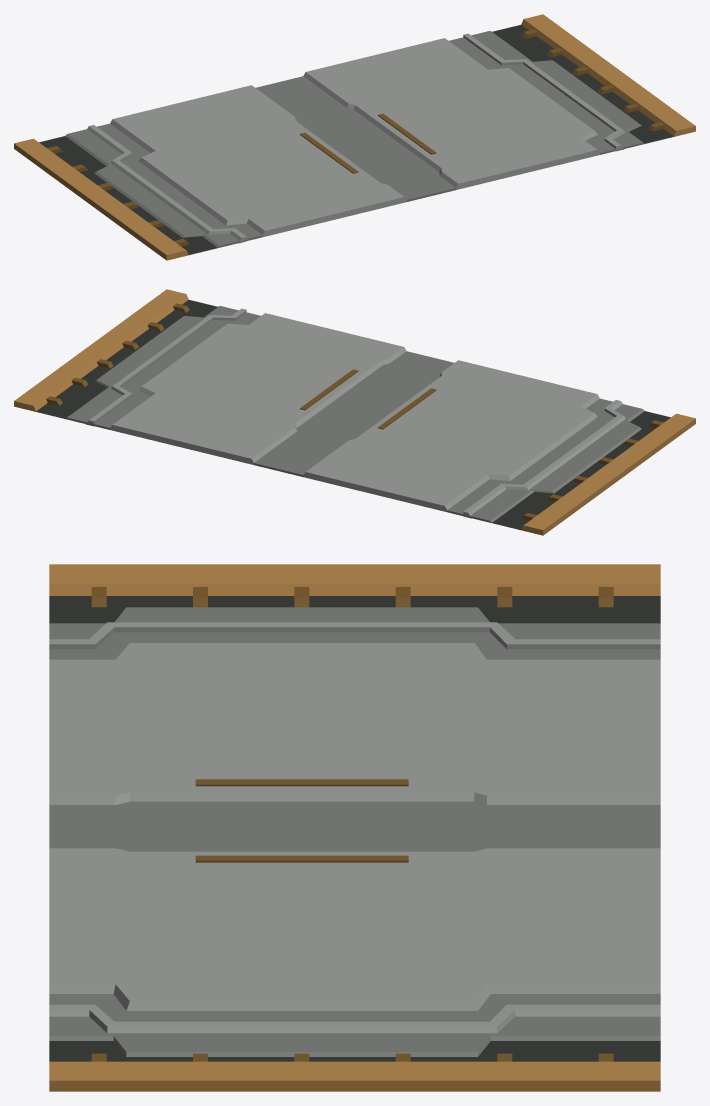
File: quaternius-modular-sci-fi-floor-tile-double-hallway.glb
The picture shows the model from 3 angles, top to bottom: view 1: azimuth 30°, elevation 25°; view 2: azimuth 150°, elevation 25°; view 3: azimuth 270°, elevation 25°; orthographic projection. The views are drawn at different scales.
Parts seen in each view (by area): view 1: FloorTile_Double; view 2: FloorTile_Double; view 3: FloorTile_Double.
Boxes of the visible parts, x1,y1,x2,y2 form: FloorTile_Double: [14, 14, 695, 260]; FloorTile_Double: [14, 289, 695, 535]; FloorTile_Double: [49, 564, 660, 1091].
Size of the model in its own units: 4 by 0.0684 by 2.
Materials: 1 (1 with a texture image).
